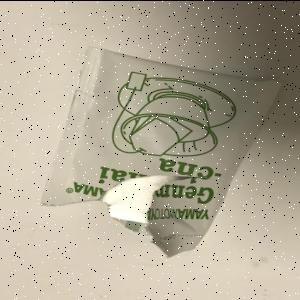Trash: (40, 46, 283, 260)
